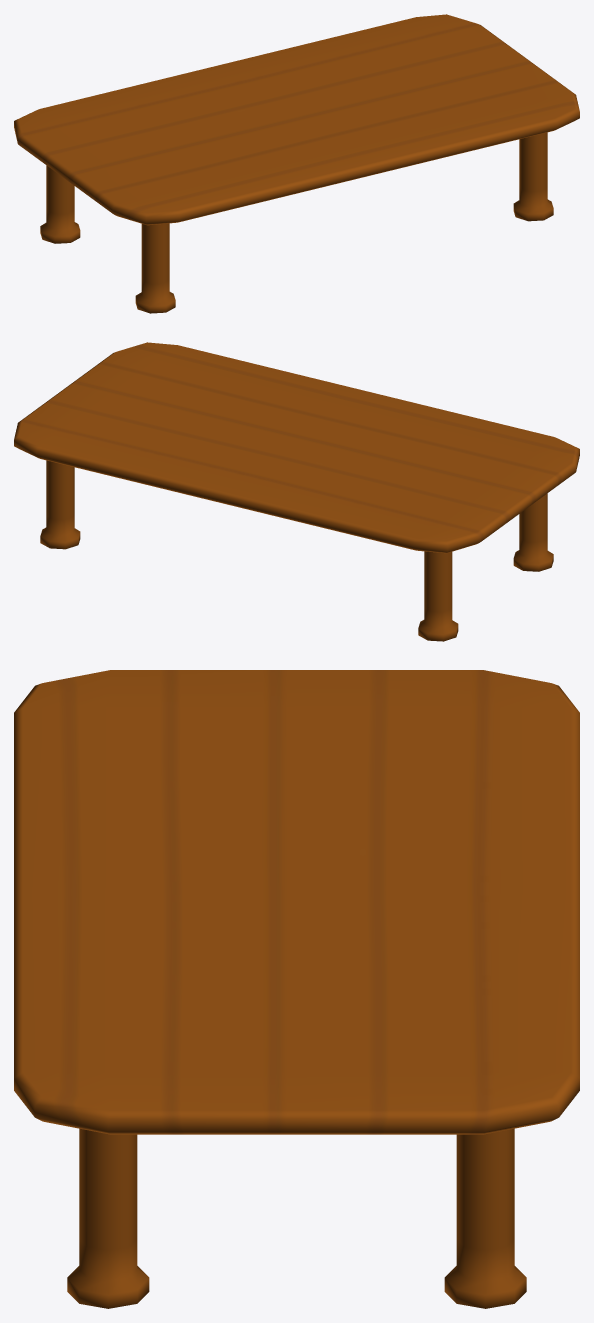
File: Dojo_Table.fbx
3 renders of one model, top to bottom at view 1: azimuth 30°, elevation 25°; view 2: azimuth 150°, elevation 25°; view 3: azimuth 270°, elevation 25°, orthographic. The views are drawn at different scales.
Parts seen in each view (by area): view 1: Table; view 2: Table; view 3: Table.
Boxes of the visible parts, box(x1,y1,x2,y2) form: Table: box(14, 14, 579, 313); Table: box(14, 342, 579, 641); Table: box(14, 670, 579, 1308).
Bounding box in the file's own units: 207 × 47.21 × 111.
Materials: 1 (1 with a texture image).
